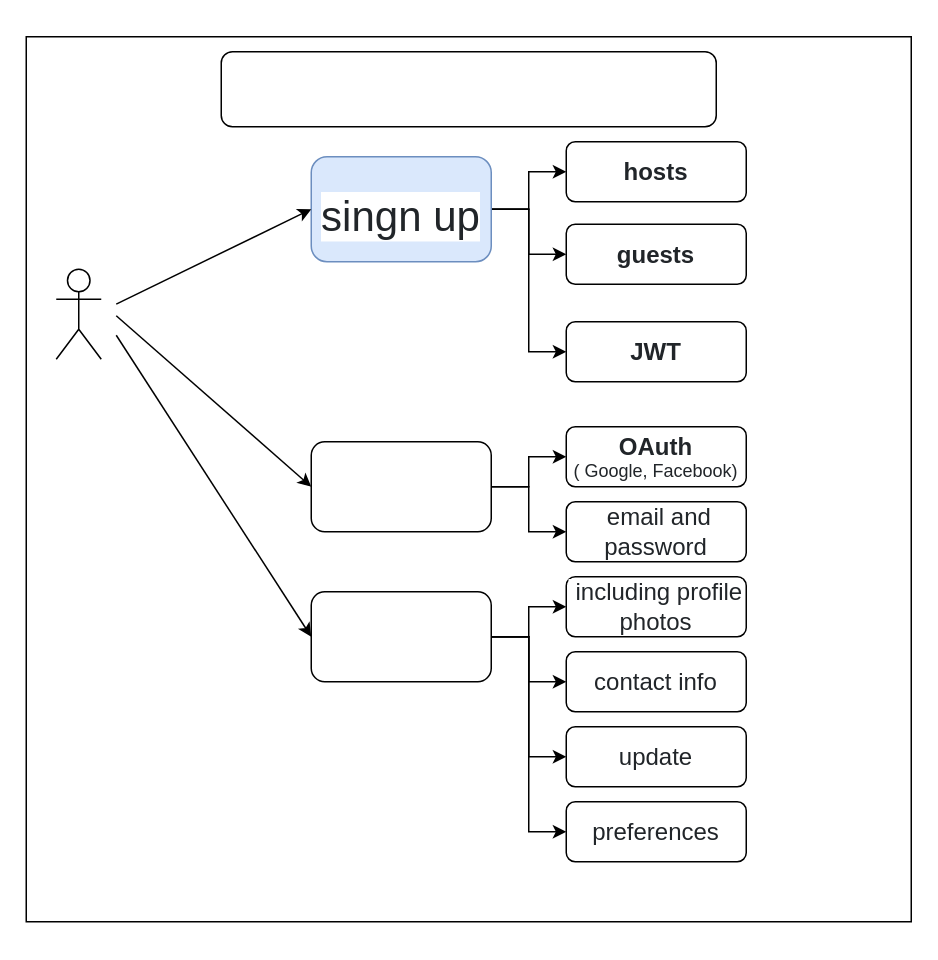
The diagram is 938 pixels wide and 960 high, and some of its shapes have lost their labels. Each missing label, with the centre of its shape:
Actor: point (78, 313)
log in: point (400, 486)
Profile Management: point (400, 636)
User Management: point (468, 88)
